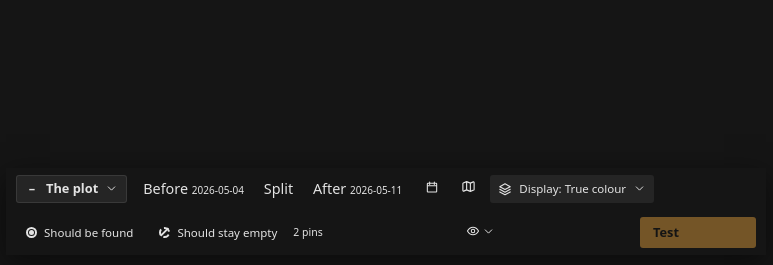
Scenario: separates what the map shows from what the rules read, where the two are confused
Click the button with aria-label "Copernicus layer". click: [572, 189]
box: [490, 175, 654, 203]
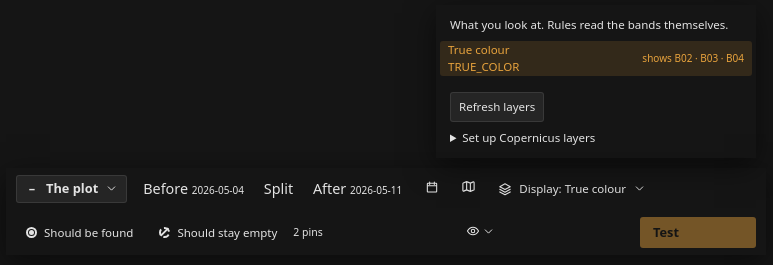
Expected: the text with class "layer-aside" reads "What you look at. Rules read the bands themselves.", [450, 17, 728, 32]
